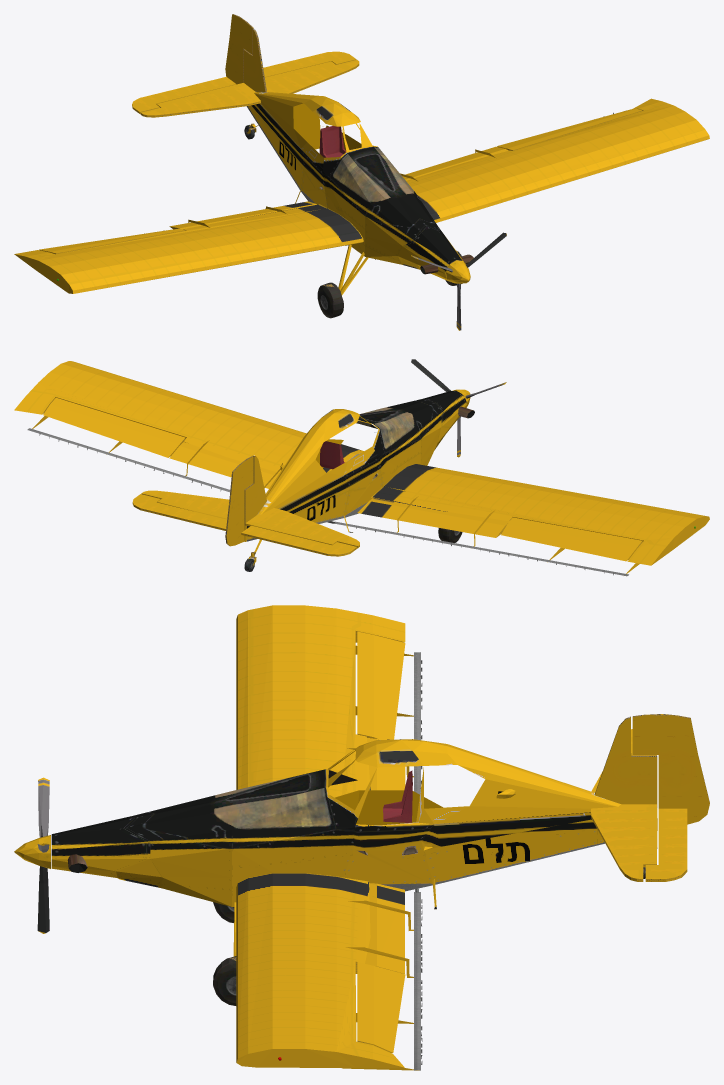
Rendered from telemthrush_LOD2.gltf.
The picture shows the model from 3 angles, top to bottom: view 1: azimuth 30°, elevation 25°; view 2: azimuth 150°, elevation 25°; view 3: azimuth 270°, elevation 25°; orthographic projection. The views are drawn at different scales.
Parts seen in each view (by area): view 1: node18, node15, node19; view 2: node18, node15; view 3: node18, node15, node19.
Boxes of the visible parts, x1,y1,x2,y2 form: node18: (14,51,709,293); node15: (225,14,506,330); node19: (293,103,361,150); node18: (14,361,709,576); node15: (225,359,506,571); node18: (236,605,687,1070); node15: (14,714,709,1005); node19: (328,750,442,825).
Bounding box in the file's own units: 14.49 × 3.78 × 9.57.
